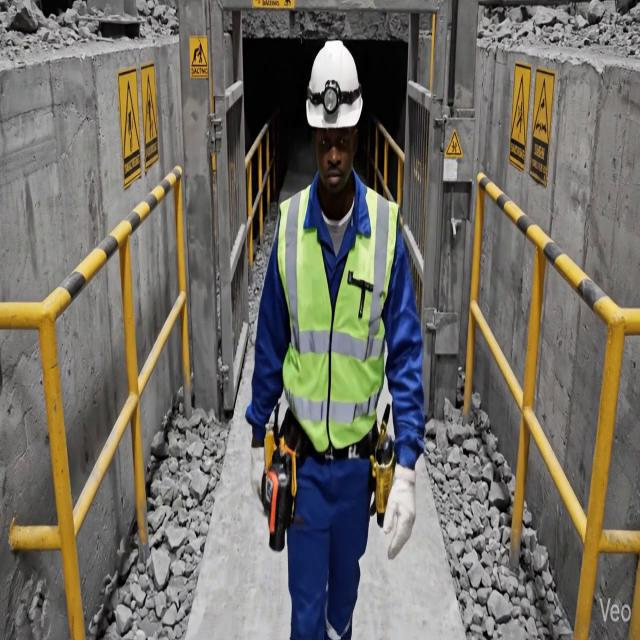Vest: (277, 187, 397, 452)
Worker: (246, 41, 423, 639)
helmet: (306, 40, 362, 128)
